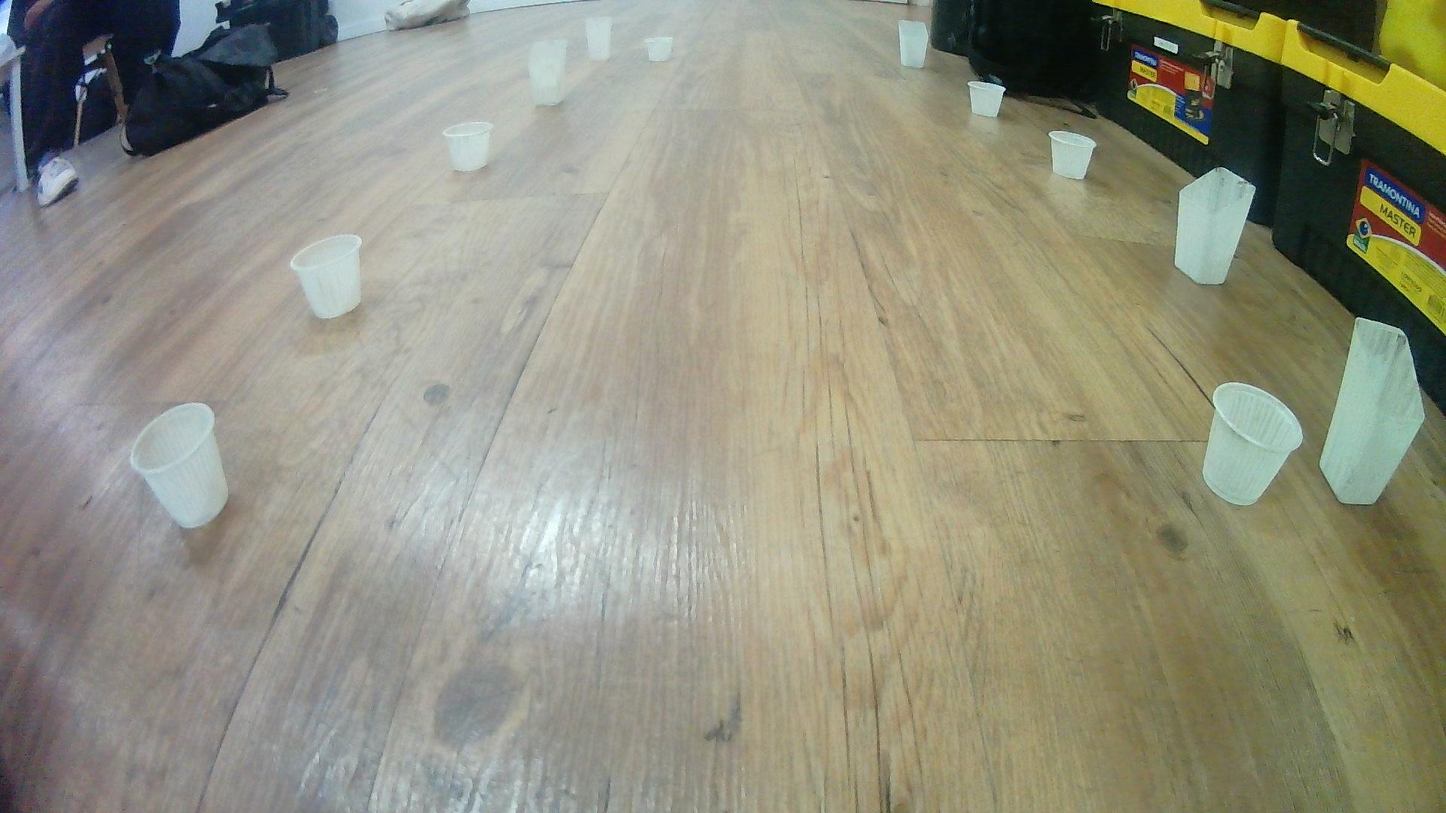erva_daninha: (1318, 315, 1427, 507), (1173, 166, 1257, 286), (527, 38, 570, 107), (897, 19, 929, 69), (585, 17, 613, 62)
planta: (125, 402, 231, 531), (1200, 381, 1304, 507), (291, 233, 365, 321), (442, 120, 494, 173), (1047, 130, 1097, 181), (968, 81, 1007, 118), (646, 36, 673, 62)
